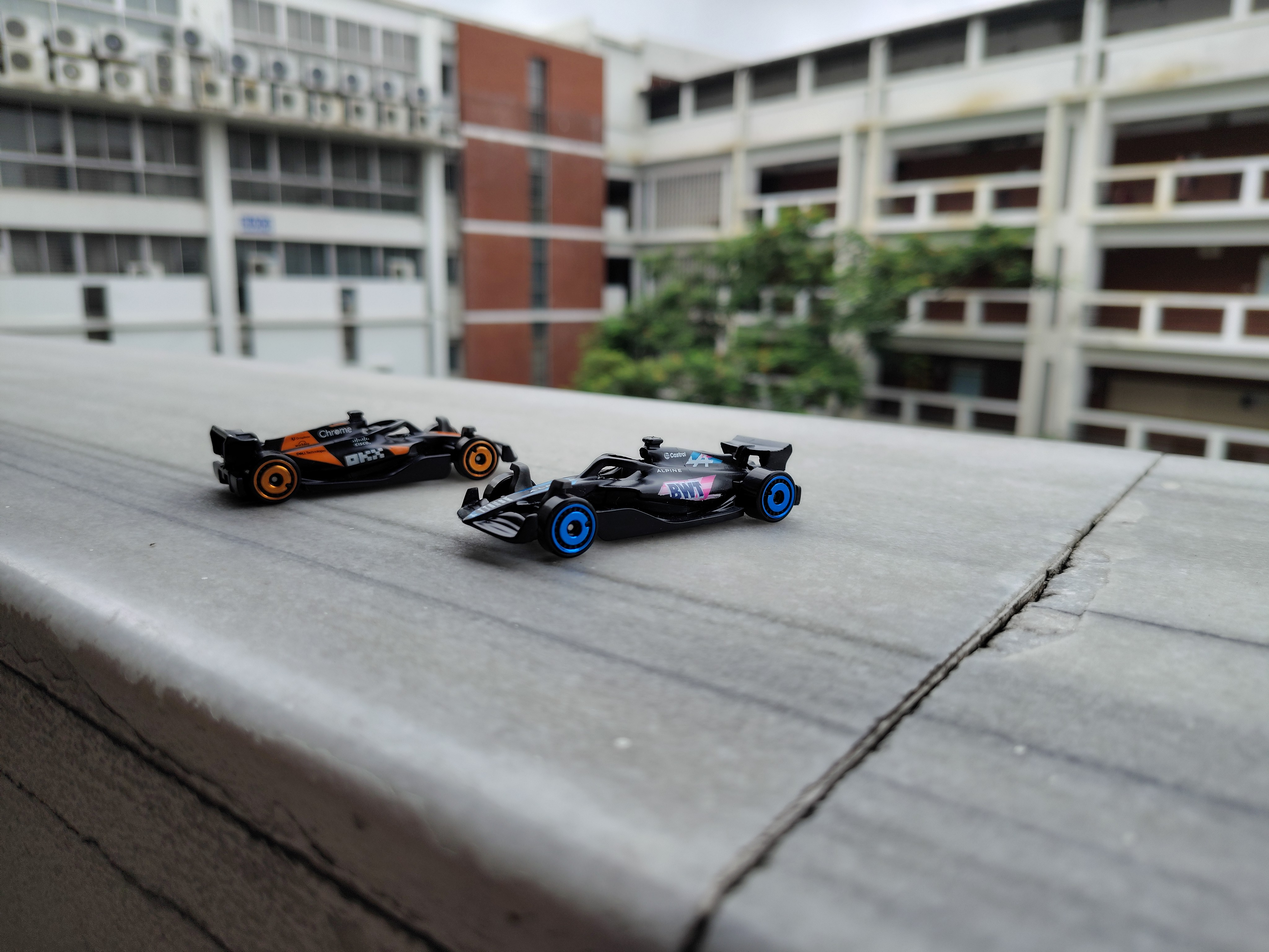Alpine A524: (440, 425, 813, 572)
McLaren MCL40: (195, 359, 514, 502)
